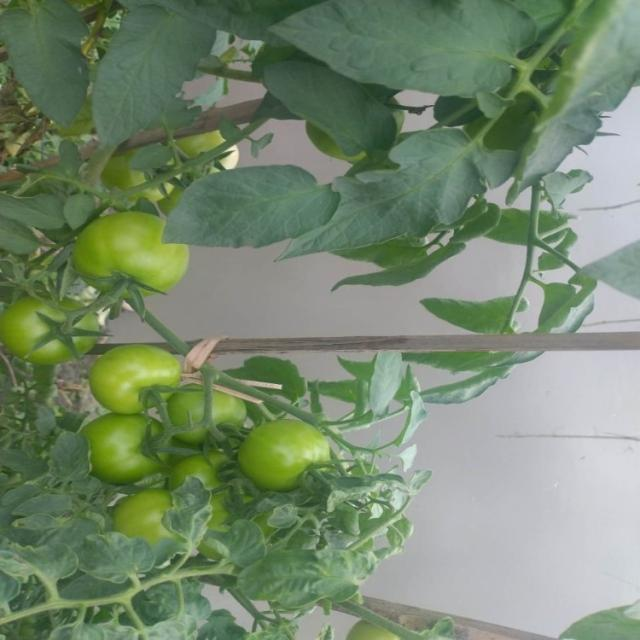tomato: (66, 212, 201, 308), (73, 331, 192, 427), (70, 403, 179, 491), (8, 293, 105, 384), (235, 408, 339, 492), (110, 476, 204, 549), (165, 377, 250, 448), (160, 123, 237, 188), (184, 452, 259, 518), (90, 147, 168, 196)
